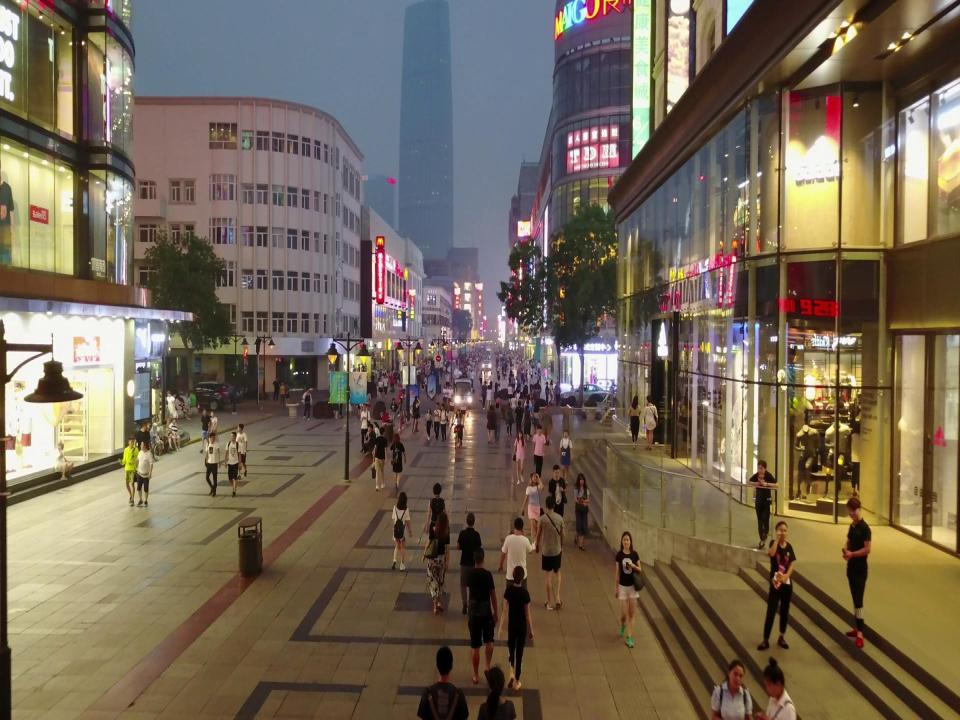car: (560, 381, 616, 407), (582, 390, 620, 421)
van: (184, 381, 234, 412)
